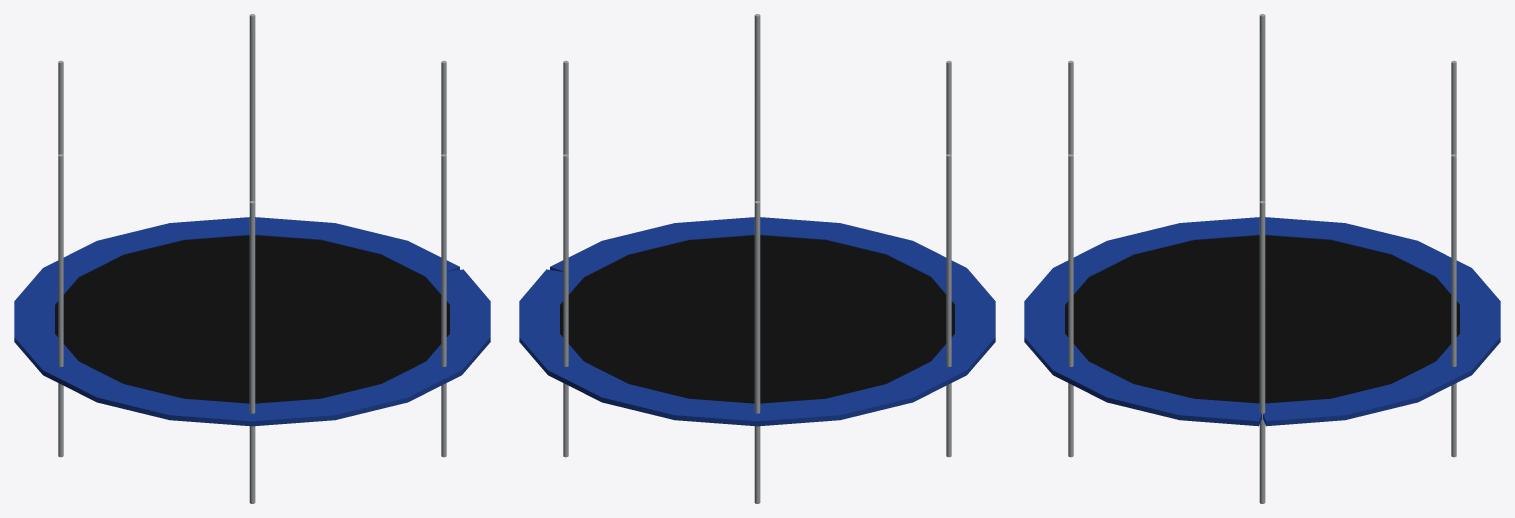
Rendered from street.garden.trampoline.glb.
3 views of the same model, side by side, from view 1: azimuth 30°, elevation 25°; view 2: azimuth 150°, elevation 25°; view 3: azimuth 270°, elevation 25° (orthographic).
Parts seen in each view (by area): view 1: main__plastic_black, main__plastic_blue, main__steel_galvanised; view 2: main__plastic_black, main__plastic_blue, main__steel_galvanised; view 3: main__plastic_black, main__plastic_blue, main__steel_galvanised.
Part boxes in pixels (x1,y1,x2,y2): main__plastic_black: (55,235,449,403); main__plastic_blue: (14,217,490,426); main__steel_galvanised: (58,14,446,503); main__plastic_black: (560,235,954,403); main__plastic_blue: (519,217,995,426); main__steel_galvanised: (563,14,951,503); main__plastic_black: (1065,235,1459,403); main__plastic_blue: (1024,217,1500,426); main__steel_galvanised: (1068,14,1456,503).
Bounding box in the file's own units: 3.5 × 2.4 × 3.45.
